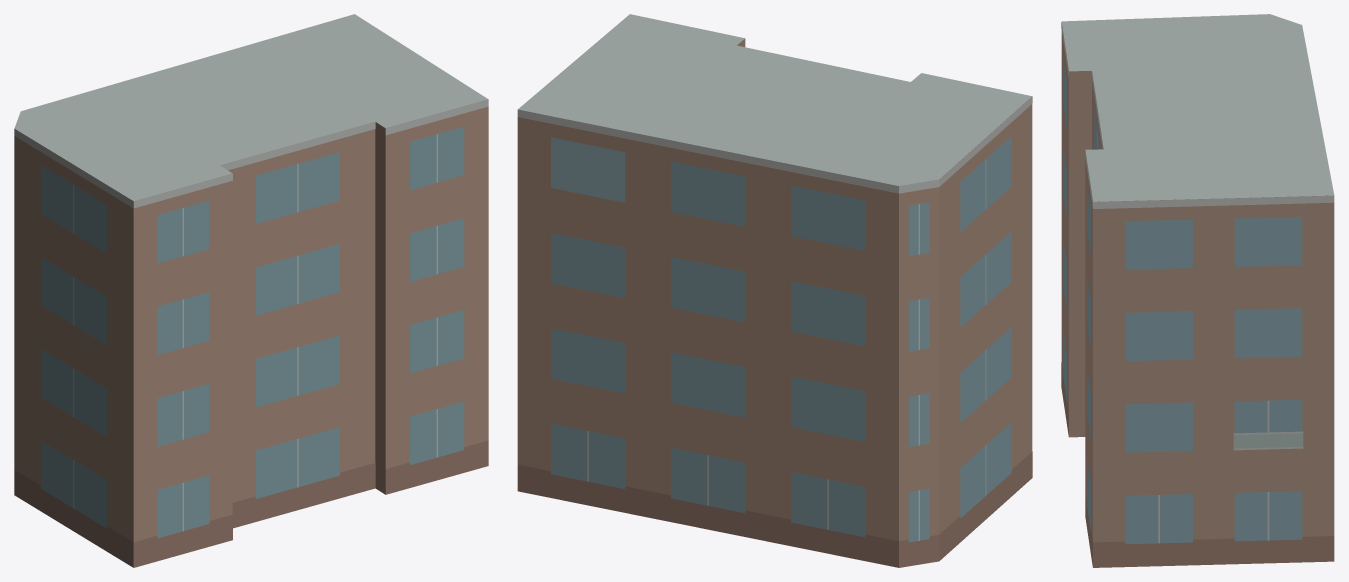
The model's file is survey-upis-32876228.glb.
3 views of the same model, side by side, from view 1: azimuth 30°, elevation 25°; view 2: azimuth 150°, elevation 25°; view 3: azimuth 270°, elevation 25° (orthographic). The views are drawn at different scales.
Parts seen in each view (by area): view 1: survey-upis-32876228.tmp; view 2: survey-upis-32876228.tmp; view 3: survey-upis-32876228.tmp.
Part boxes in pixels (<box>): survey-upis-32876228.tmp: <box>14,14,488,567</box>; survey-upis-32876228.tmp: <box>517,14,1032,567</box>; survey-upis-32876228.tmp: <box>1061,14,1334,567</box>.
Size of the model in its own units: 13.66 by 12.4 by 8.39.
